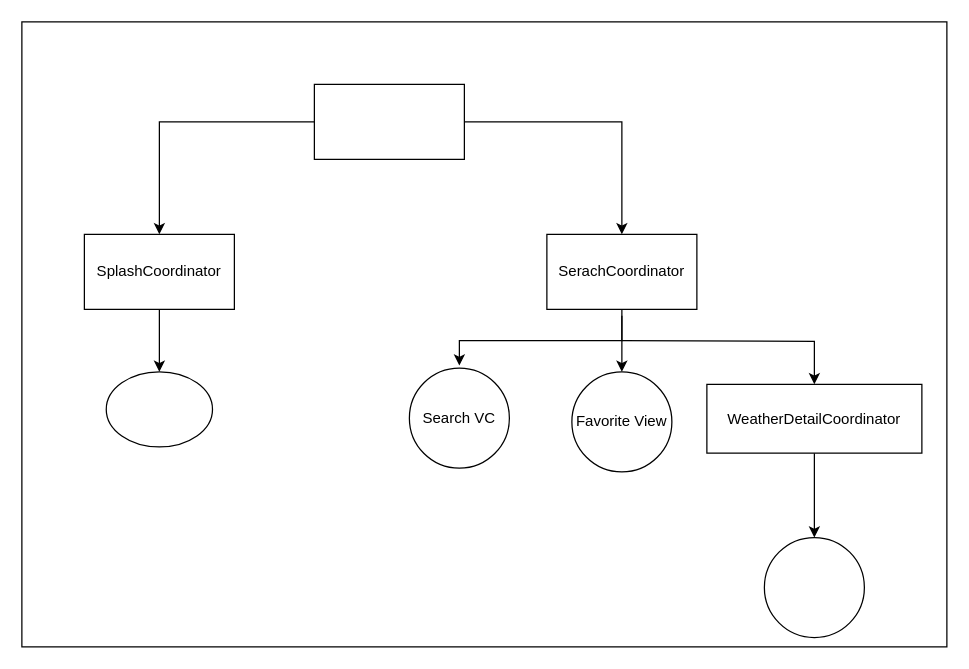
This 969x669 diagram has some shape labels left out. Here are the shapes that lost their labels. From the top down, the centre of each, then its label:
At pixel 388 121: "AppCoordinator".
At pixel 158 409: "SplashVC".
At pixel 813 587: "Detail VC".
